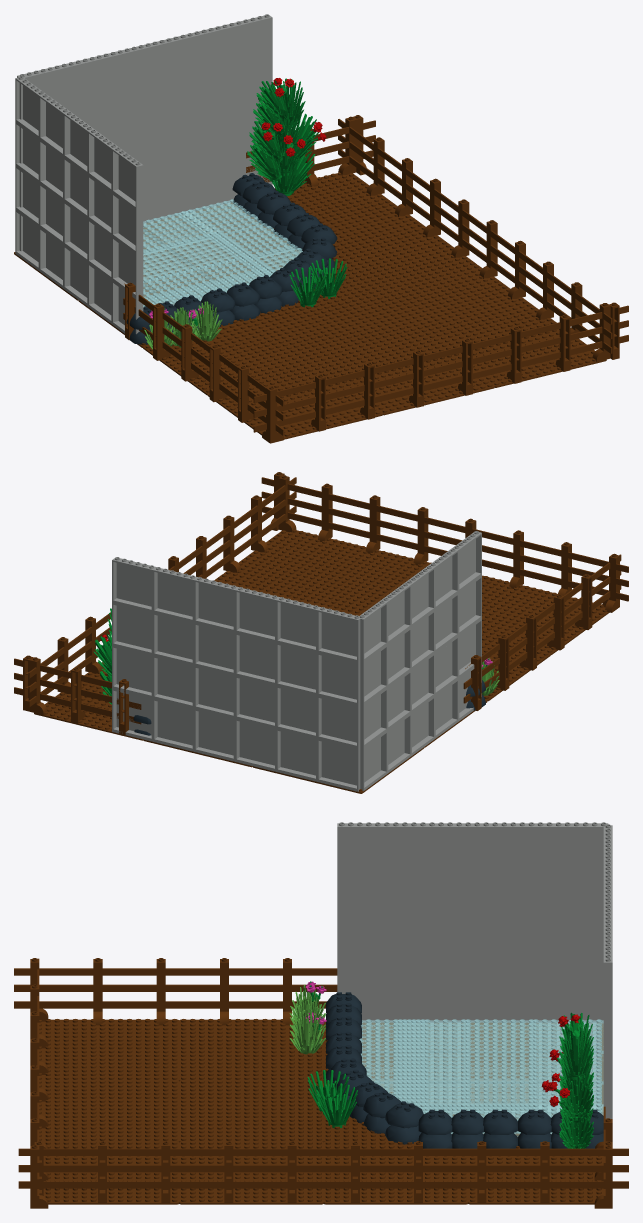
Rendered from Duck Enclosure.dae.
The picture shows the model from 3 angles, top to bottom: view 1: azimuth 30°, elevation 25°; view 2: azimuth 150°, elevation 25°; view 3: azimuth 270°, elevation 25°; orthographic projection. The views are drawn at different scales.
Bounding box in the file's own units: 1072 × 1362 × 492.
